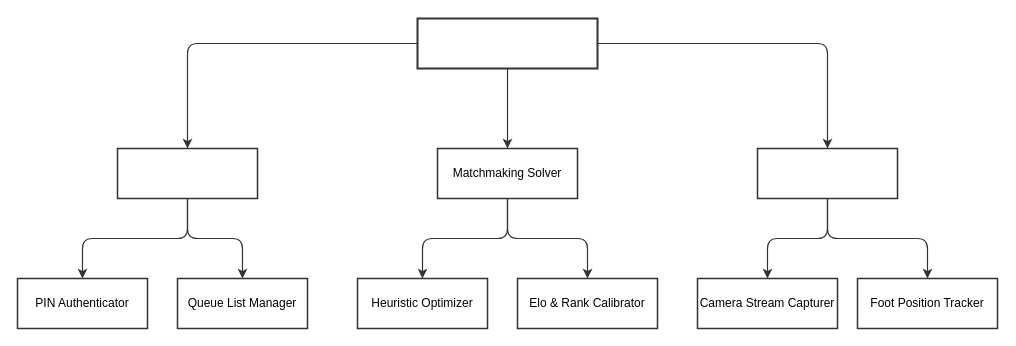
The diagram is 1016 pixels wide and 346 high, and some of its shapes have lost their labels. The centre of each missing label's shape, as x and y in pixels:
"CV Fault Analyzer" goes at pixel 827 173.
"DinkMatch Controller" goes at pixel 507 43.
"Queue Manager" goes at pixel 187 173.
